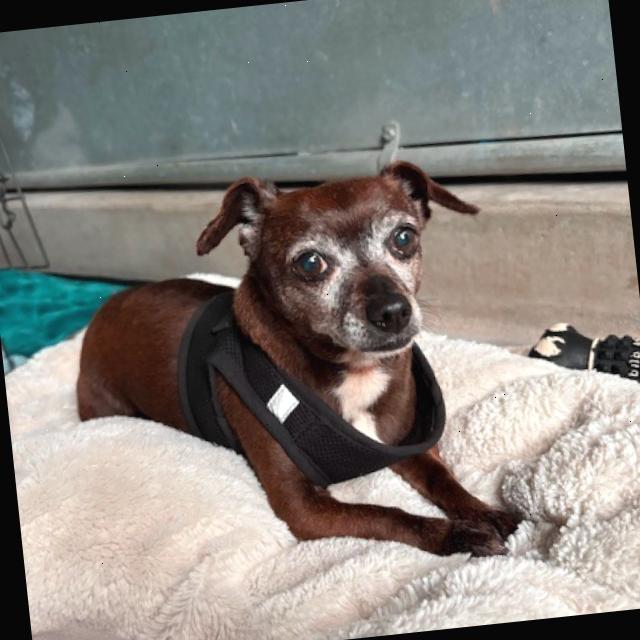chihuahua_dog: (174, 125, 524, 399)
